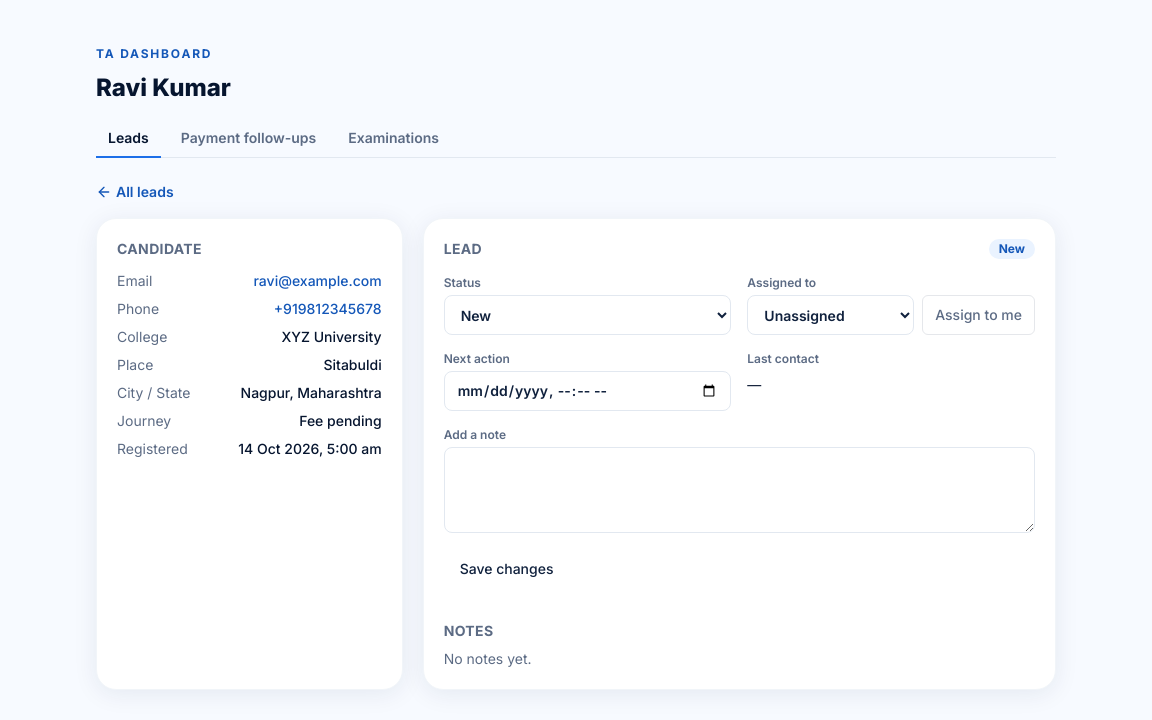
Test: Lead detail (US8) › assign to me in one click
Click the button "Assign to me". click: (979, 315)
box: [922,295,1035,335]
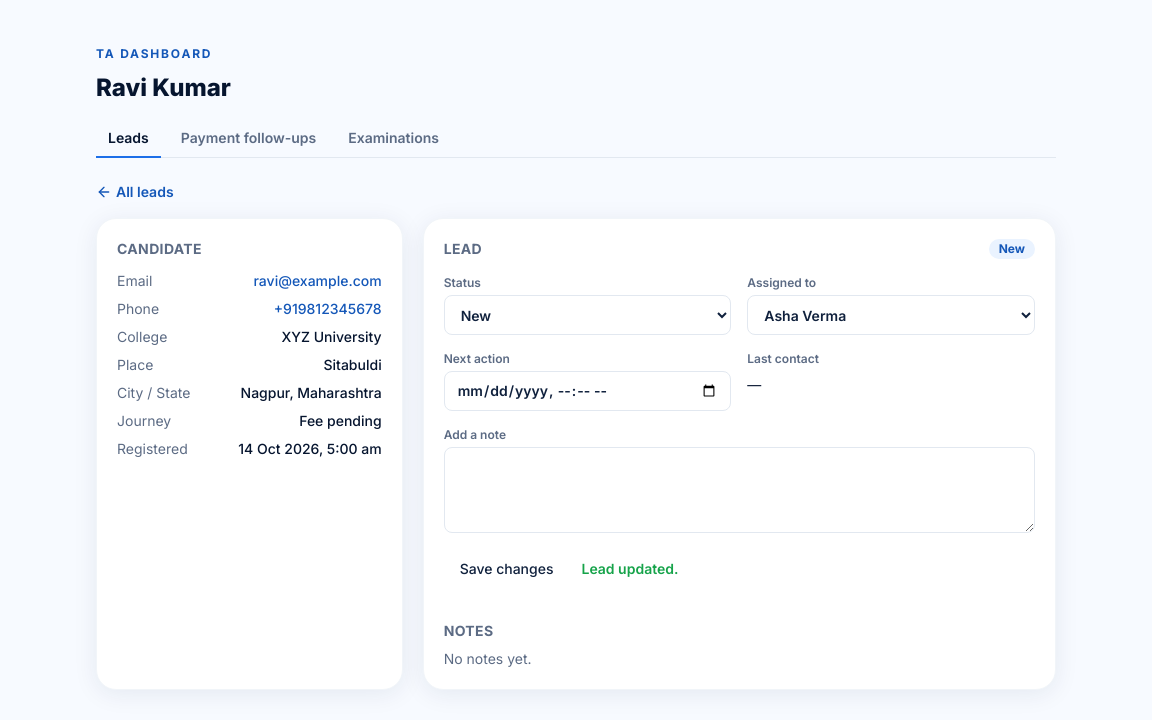
Expected: the button "Assign to me" is gone
